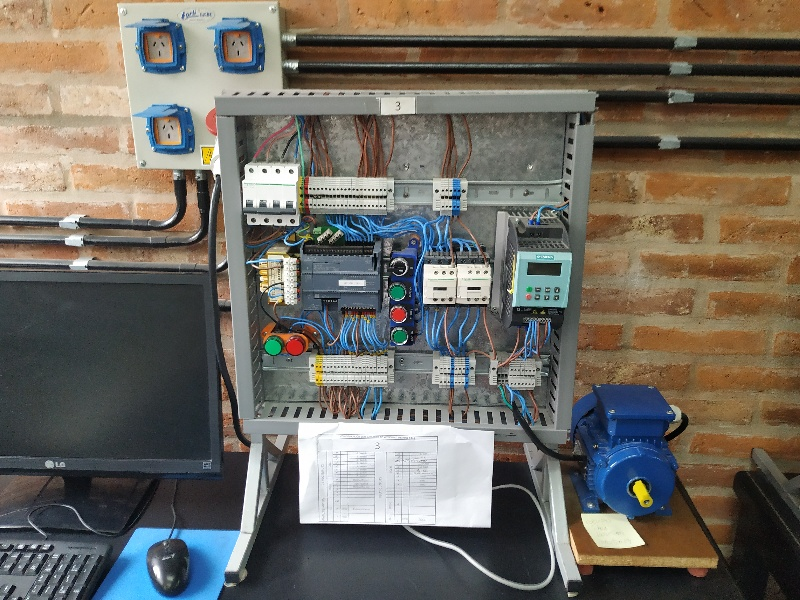Tablero 3: (223, 106, 576, 432)
